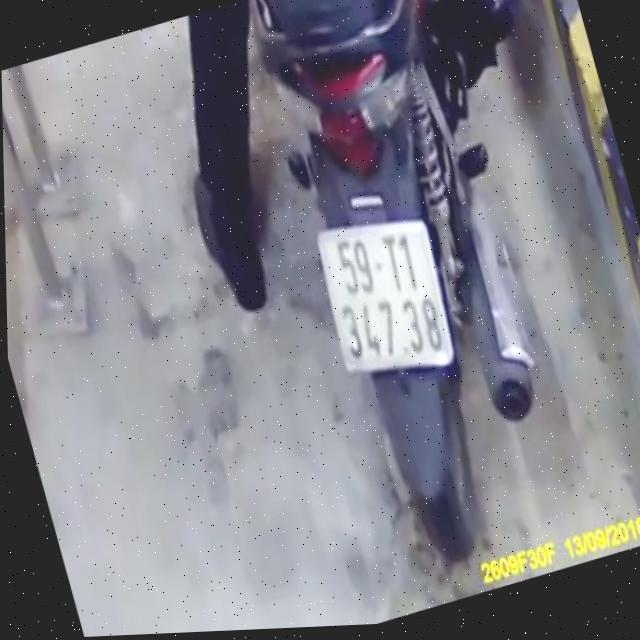motorcycle: (227, 0, 609, 603)
plate: (304, 190, 466, 401)
